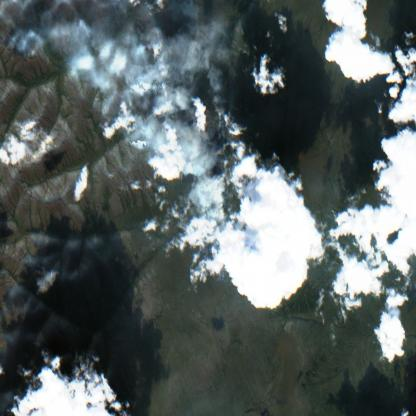fire: (179, 123, 235, 283)
